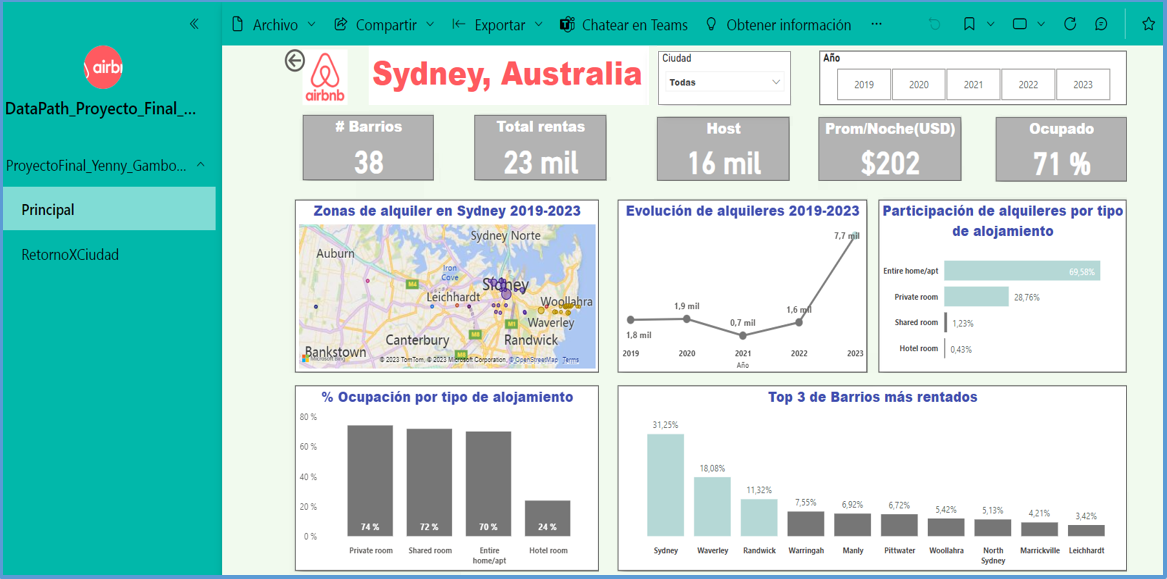

Layout of this report page (visuals, bound fields, positions):
{"tool":"powerbi","page":{"name":"Principal","canvas":[1280,720],"ordinal":0},"visuals":[{"type":"barChart","title":"Participación de alquileres por tipo de alojamiento","fields":{"Category":["Room_Type.room_type"],"Y":["Divide(CountNonNull(Airbnb_Sydney.id), ScopedEval(CountNonNull(Airbnb_Sydney.id), []))"]},"box":[891.7,205,370,230],"z":0},{"type":"textbox","box":[100,0,458.6,84.3],"z":1000},{"type":"image","box":[0,0,130,84.3],"z":2000},{"type":"card","title":"Host","fields":{"Values":["Medidas_Proyecto_Final.Cantidad_Host"]},"box":[542.1,92.9,197.6,84.4],"z":3000},{"type":"card","title":"Prom/Noche(USD)","fields":{"Values":["Medidas_Proyecto_Final.PrecioEnDolares"]},"box":[802.1,96.3,212.8,84.4],"z":4000},{"type":"clusteredColumnChart","title":"Top 3 de Barrios más rentados","fields":{"Category":["Airbnb_Sydney.neighbourhood"],"Y":["Airbnb_Sydney.id"]},"box":[501.7,453.3,760,246.7],"z":5000},{"type":"card","title":"# Barrios","fields":{"Values":["Medidas_Proyecto_Final.Cantidad_Barrios"]},"box":[20.7,93.8,195.5,87.4],"z":6000},{"type":"actionButton","box":[0,0,100,40],"z":7000},{"type":"map","title":"Zonas de alquiler en Sydney 2019-2023","fields":{"Y":["Airbnb_Sydney.latitude"],"X":["Airbnb_Sydney.longitude"],"Series":["Airbnb_Sydney.neighbourhood"],"Size":["Airbnb_Sydney.id"]},"box":[20,205,453.3,230],"z":8000},{"type":"slicer","title":"Ciudad","fields":{"Values":["Airbnb_Sydney.neighbourhood"]},"box":[588.6,7.1,197.1,71.4],"z":9000},{"type":"card","title":"Ocupado","fields":{"Values":["Medidas_Proyecto_Final.Disponible"]},"box":[1067,95,195,85],"z":10000},{"type":"card","title":"Total rentas","fields":{"Values":["Medidas_Proyecto_Final.TotalAlquileres"]},"box":[287.8,92.2,196.7,86.7],"z":11000},{"type":"slicer","title":"Año","fields":{"Values":["Dim_Calendario.Año"]},"box":[803.3,6.7,458.3,71.7],"z":12000},{"type":"columnChart","title":"% Ocupación por tipo de alojamiento","fields":{"Y":["Medidas_Proyecto_Final.Promedio de availability_365 por room_type"],"Category":["Room_Type.room_type"]},"box":[20,453.3,453.3,246.7],"z":13000},{"type":"lineChart","title":"Evolución de alquileres 2019-2023","fields":{"Y":["Airbnb_Sydney.id"],"Category":["Dim_Calendario.Año"]},"box":[501.7,205,371.7,230],"z":14000}]}

Visuals, with their boxes on the page's 1280x720 design canvas (x1, y1, x2, y2). These are canvas units, not pixel positions in the 1167x579 screenshot, which may show the page scaled, cropped or inside an application window:
"Participación de alquileres por tipo de alojamiento" barChart: x1=892, y1=205, x2=1262, y2=435
textbox: x1=100, y1=0, x2=559, y2=84
image: x1=0, y1=0, x2=130, y2=84
"Host" card: x1=542, y1=93, x2=740, y2=177
"Prom/Noche(USD)" card: x1=802, y1=96, x2=1015, y2=181
"Top 3 de Barrios más rentados" clusteredColumnChart: x1=502, y1=453, x2=1262, y2=700
"# Barrios" card: x1=21, y1=94, x2=216, y2=181
actionButton: x1=0, y1=0, x2=100, y2=40
"Zonas de alquiler en Sydney 2019-2023" map: x1=20, y1=205, x2=473, y2=435
"Ciudad" slicer: x1=589, y1=7, x2=786, y2=78
"Ocupado" card: x1=1067, y1=95, x2=1262, y2=180
"Total rentas" card: x1=288, y1=92, x2=484, y2=179
"Año" slicer: x1=803, y1=7, x2=1262, y2=78
"% Ocupación por tipo de alojamiento" columnChart: x1=20, y1=453, x2=473, y2=700
"Evolución de alquileres 2019-2023" lineChart: x1=502, y1=205, x2=873, y2=435
